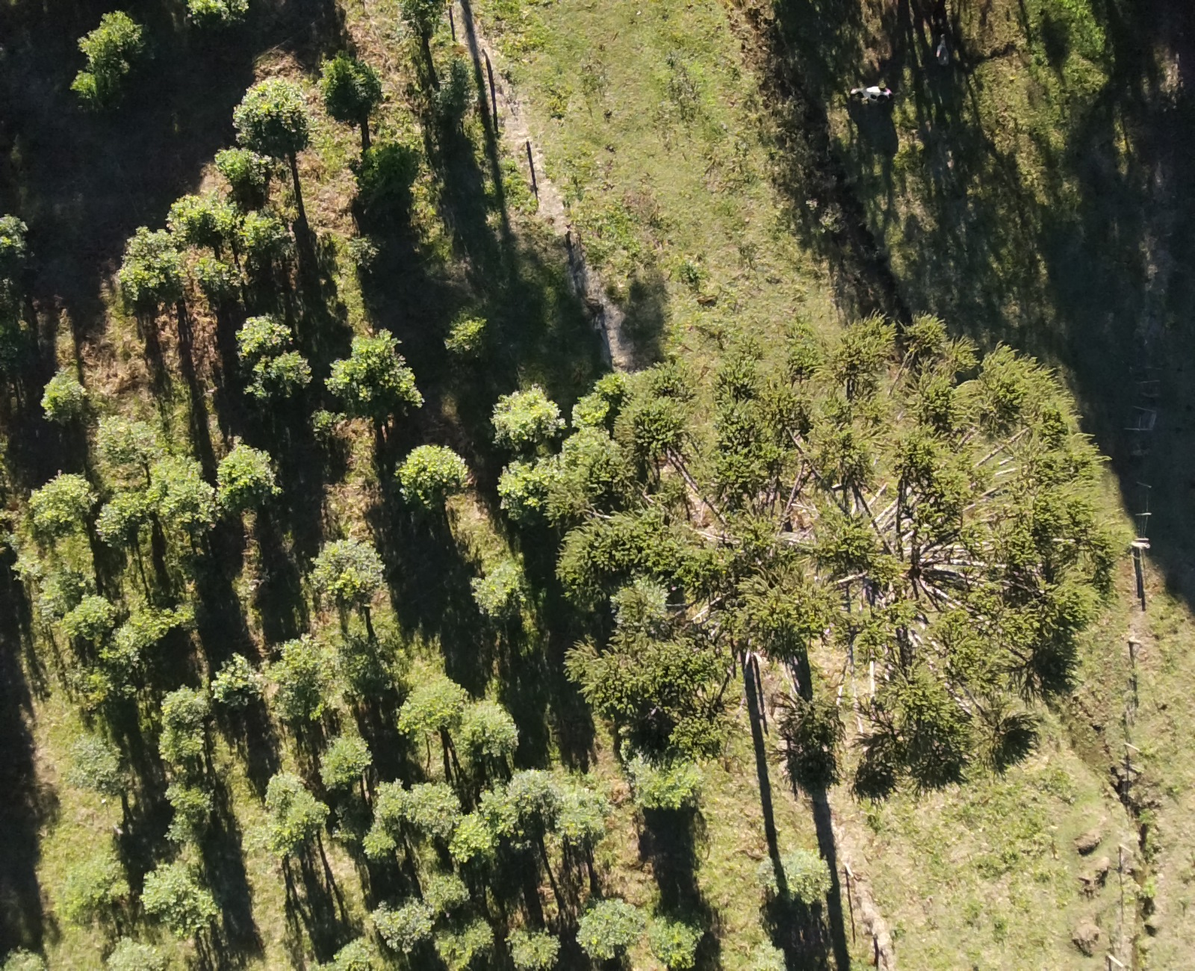erva: (324, 328, 428, 421), (223, 86, 314, 166), (392, 441, 479, 514), (149, 470, 218, 560), (358, 133, 431, 206), (629, 760, 702, 833), (491, 388, 566, 453), (314, 537, 385, 605), (212, 432, 272, 512), (574, 890, 640, 961), (93, 418, 168, 478), (95, 605, 176, 660), (311, 60, 381, 123), (419, 915, 496, 970), (457, 690, 517, 760), (443, 810, 507, 875), (270, 636, 332, 703), (79, 493, 136, 565), (443, 301, 502, 370), (200, 136, 276, 189), (240, 347, 316, 400), (63, 738, 136, 793), (149, 784, 229, 834), (26, 468, 86, 534), (401, 676, 465, 737), (551, 790, 610, 856), (466, 548, 521, 618), (319, 918, 391, 970), (131, 866, 199, 921), (122, 250, 179, 314), (642, 913, 713, 964), (405, 73, 469, 128), (71, 19, 141, 69), (369, 890, 431, 946), (513, 757, 568, 820), (164, 191, 237, 238), (396, 774, 458, 826), (194, 891, 247, 951), (30, 358, 82, 418), (315, 728, 370, 784), (228, 311, 289, 361), (477, 787, 530, 843), (196, 654, 255, 704), (57, 589, 111, 642), (285, 803, 335, 860), (357, 770, 408, 825), (252, 768, 298, 828), (199, 257, 258, 303), (394, 0, 451, 46), (492, 459, 538, 516), (417, 866, 472, 912), (504, 922, 556, 970), (237, 208, 289, 253), (154, 690, 202, 733), (0, 209, 34, 268), (353, 819, 400, 857), (106, 226, 163, 256), (178, 0, 255, 22), (305, 412, 341, 440)
